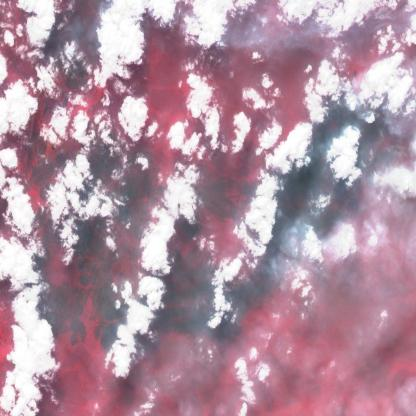fire: (313, 82, 402, 218), (249, 235, 296, 314), (92, 0, 116, 24), (36, 48, 56, 71)
